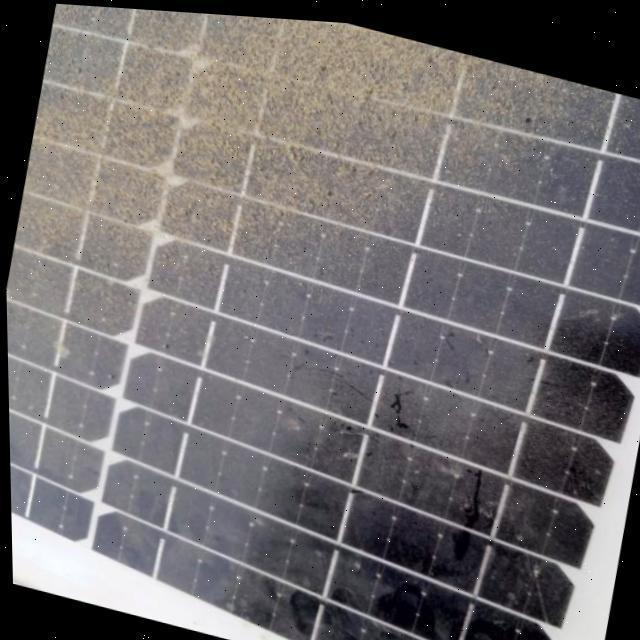Anomaly Solar Panel: (0, 0, 640, 640)
Surface Contaminant: (5, 3, 640, 640)
